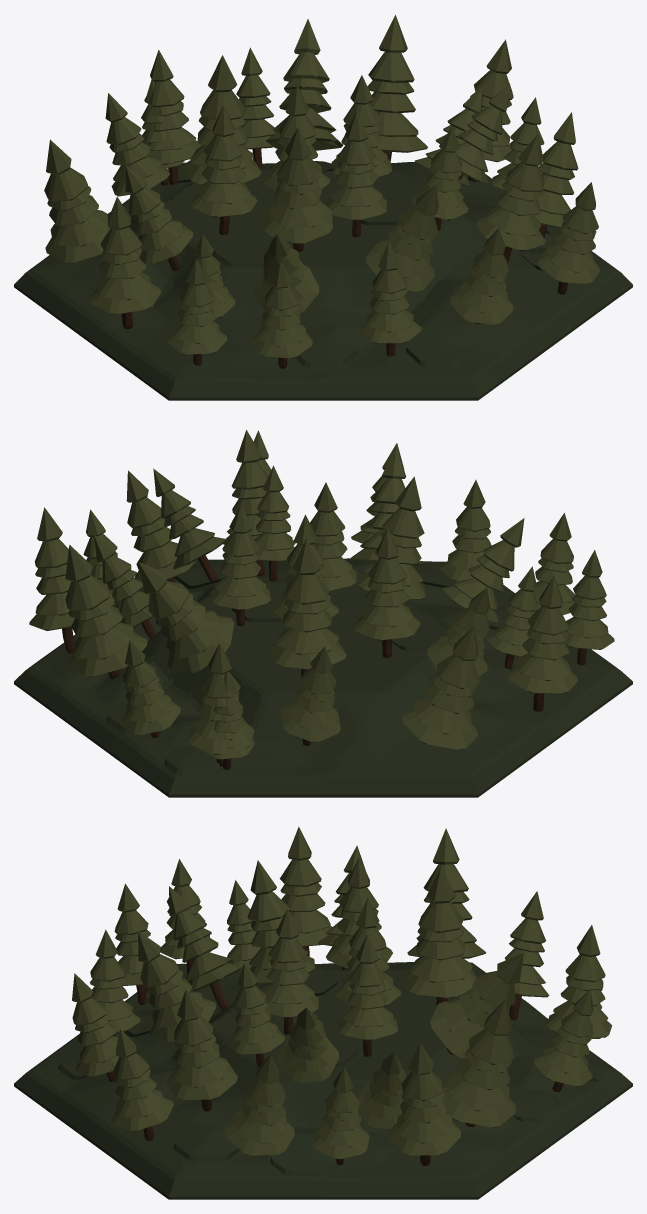
Rendered from taiga.glb.
3 renders of one model, top to bottom at view 1: azimuth 30°, elevation 25°; view 2: azimuth 150°, elevation 25°; view 3: azimuth 270°, elevation 25°, orthographic.
Visible parts, largest first — view 1: taiga; view 2: taiga; view 3: taiga.
Part boxes in pixels (x1,y1,x2,y2): taiga: [14, 15, 632, 400]; taiga: [14, 430, 632, 797]; taiga: [14, 826, 632, 1199].
Bounding box in the file's own units: 1.78 × 0.7121 × 2.
